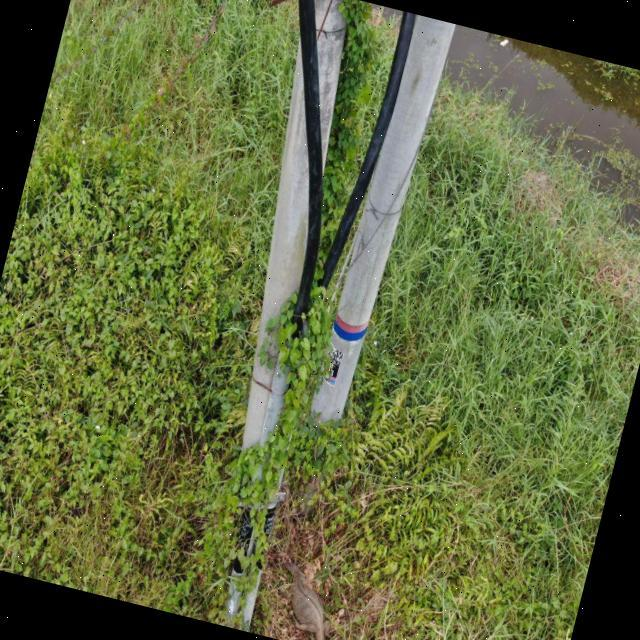critical vegetation: (179, 0, 430, 614)
